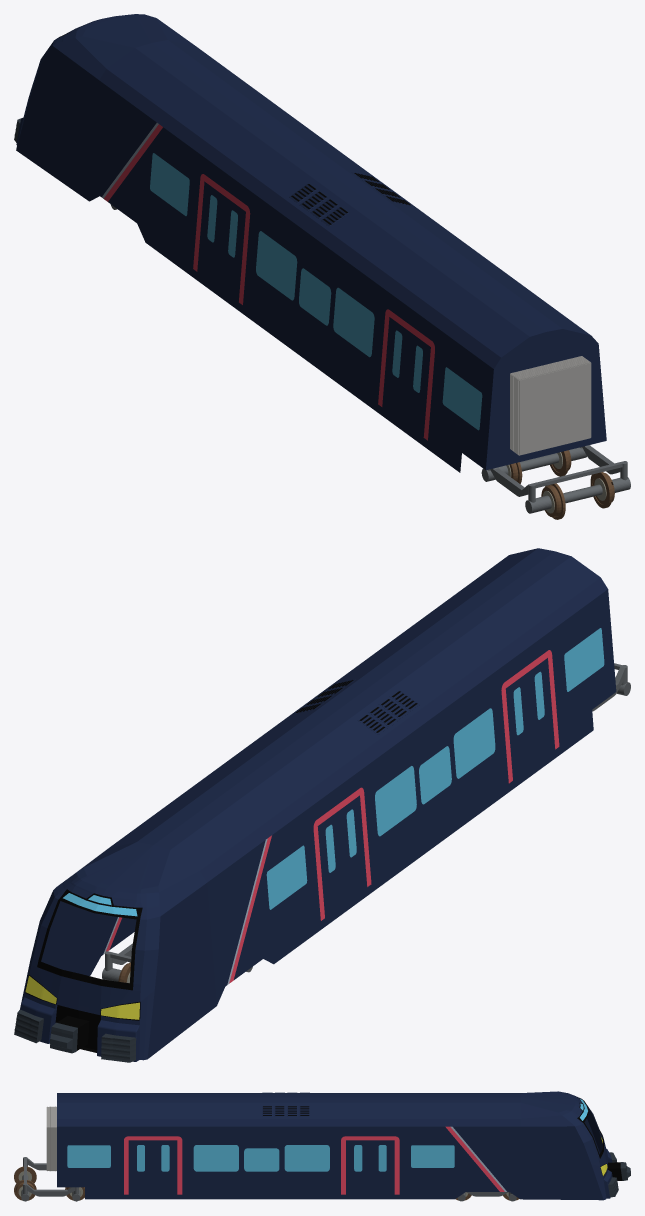
File: type_76_cab_1.fbx
The picture shows the model from 3 angles, top to bottom: view 1: azimuth 30°, elevation 25°; view 2: azimuth 150°, elevation 25°; view 3: azimuth 270°, elevation 25°; orthographic projection. The views are drawn at different scales.
Parts seen in each view (by area): view 1: Cab 1; view 2: Cab 1; view 3: Cab 1.
Part boxes in pixels (left/top/right/bottom): Cab 1: left=14, top=14, right=630, bottom=519; Cab 1: left=14, top=548, right=630, bottom=1062; Cab 1: left=14, top=1091, right=630, bottom=1201.
Size of the model in its own units: 356 by 426 by 2501.
